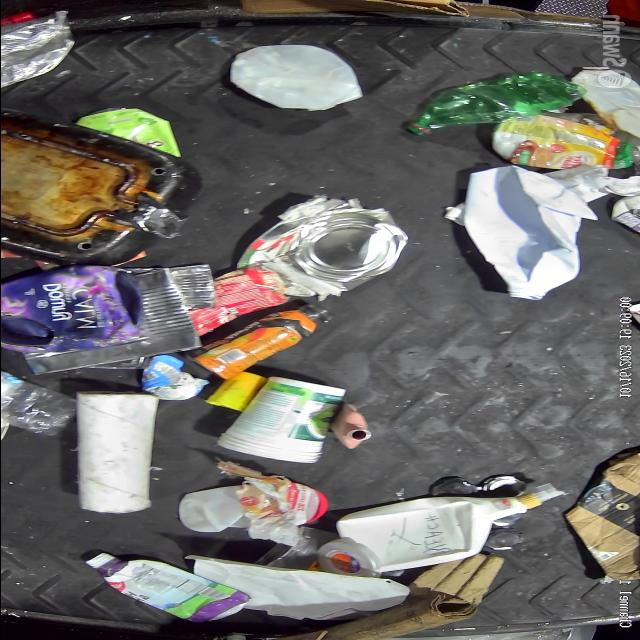can: (23, 265, 203, 375), (232, 194, 410, 299), (168, 263, 216, 309)
milk_jug: (457, 164, 600, 301), (336, 493, 544, 572), (224, 44, 364, 112), (569, 65, 640, 139)
non_white_jug: (0, 262, 150, 356)
plastic_bottle: (0, 370, 82, 436)
